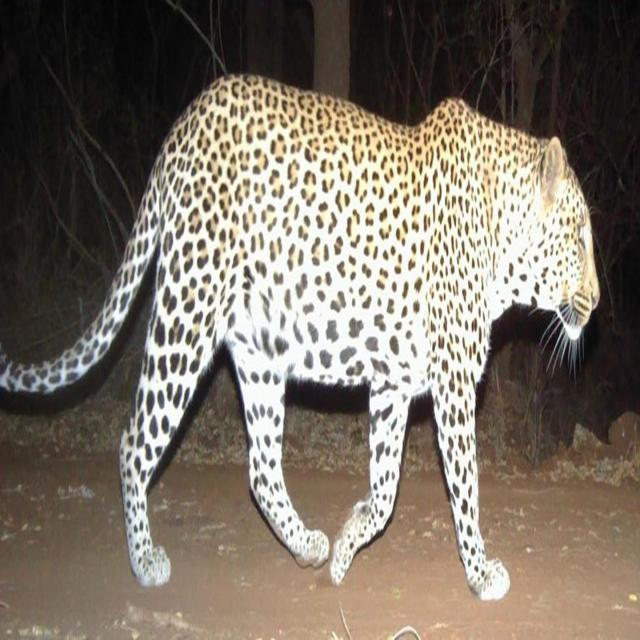Leopard: (0, 63, 616, 640)
